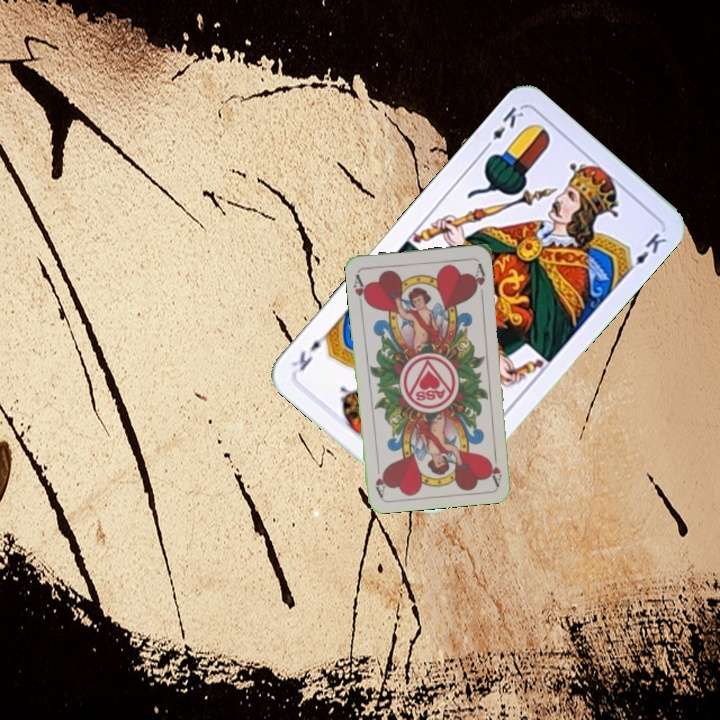EK: (479, 102, 527, 154)
HA: (349, 270, 371, 310), (486, 446, 504, 487)
